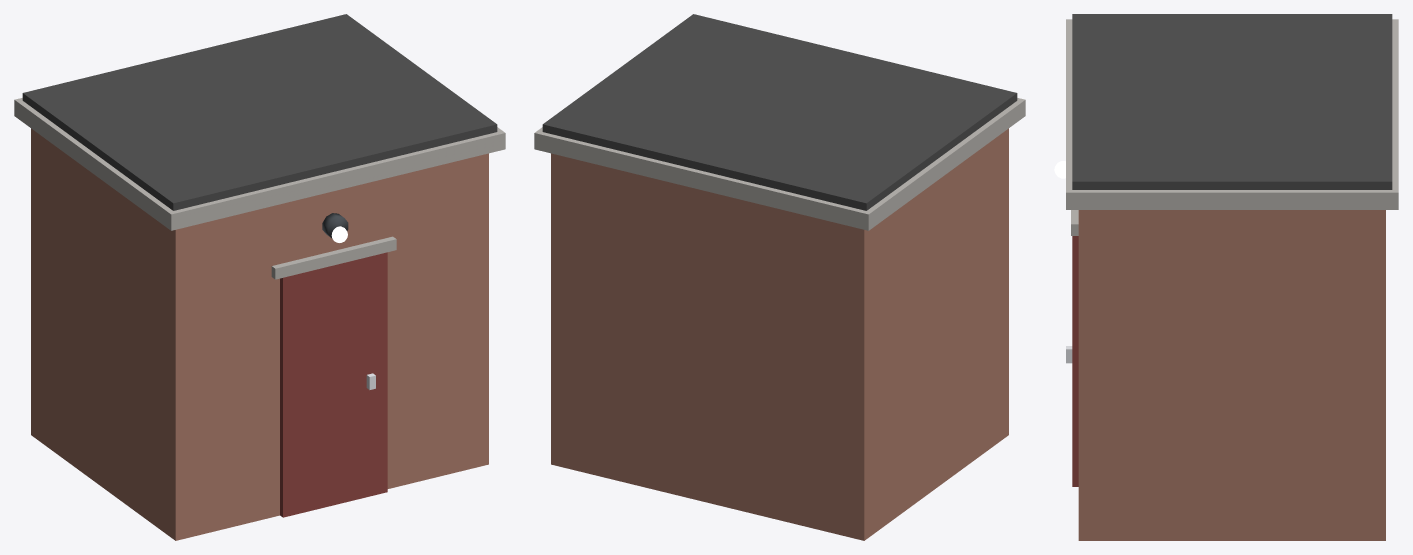
The model's file is stair_hut.glb.
3 renders of one model, left to right at view 1: azimuth 30°, elevation 25°; view 2: azimuth 150°, elevation 25°; view 3: azimuth 270°, elevation 25°, orthographic. The views are drawn at different scales.
Visible parts, largest first — view 1: stair_hut; view 2: stair_hut; view 3: stair_hut.
Boxes of the visible parts, x1,y1,x2,y2 form: stair_hut: (14, 14, 505, 540); stair_hut: (534, 14, 1025, 540); stair_hut: (1054, 14, 1398, 540).
Size of the model in its own units: 3.2 by 3.12 by 2.69.
